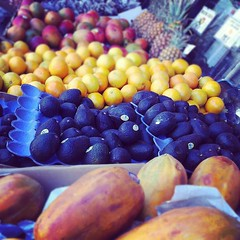Pineapple: (158, 28, 190, 64)
